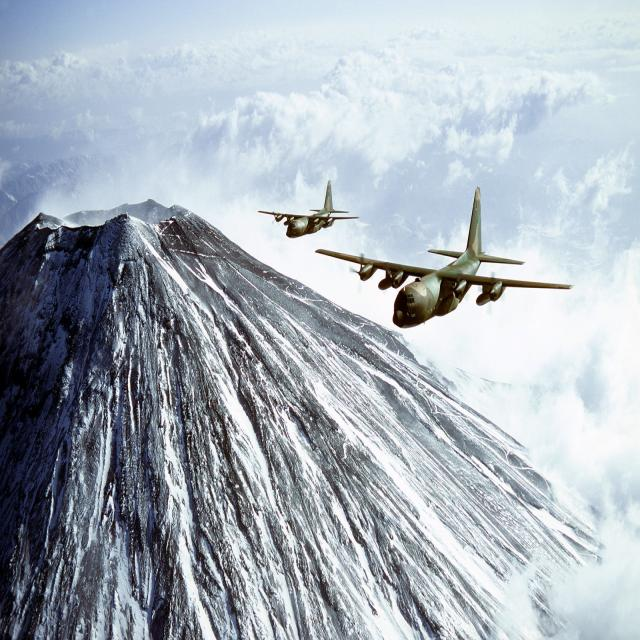MIL_Plane: (0, 186, 253, 329), (273, 176, 346, 236)
